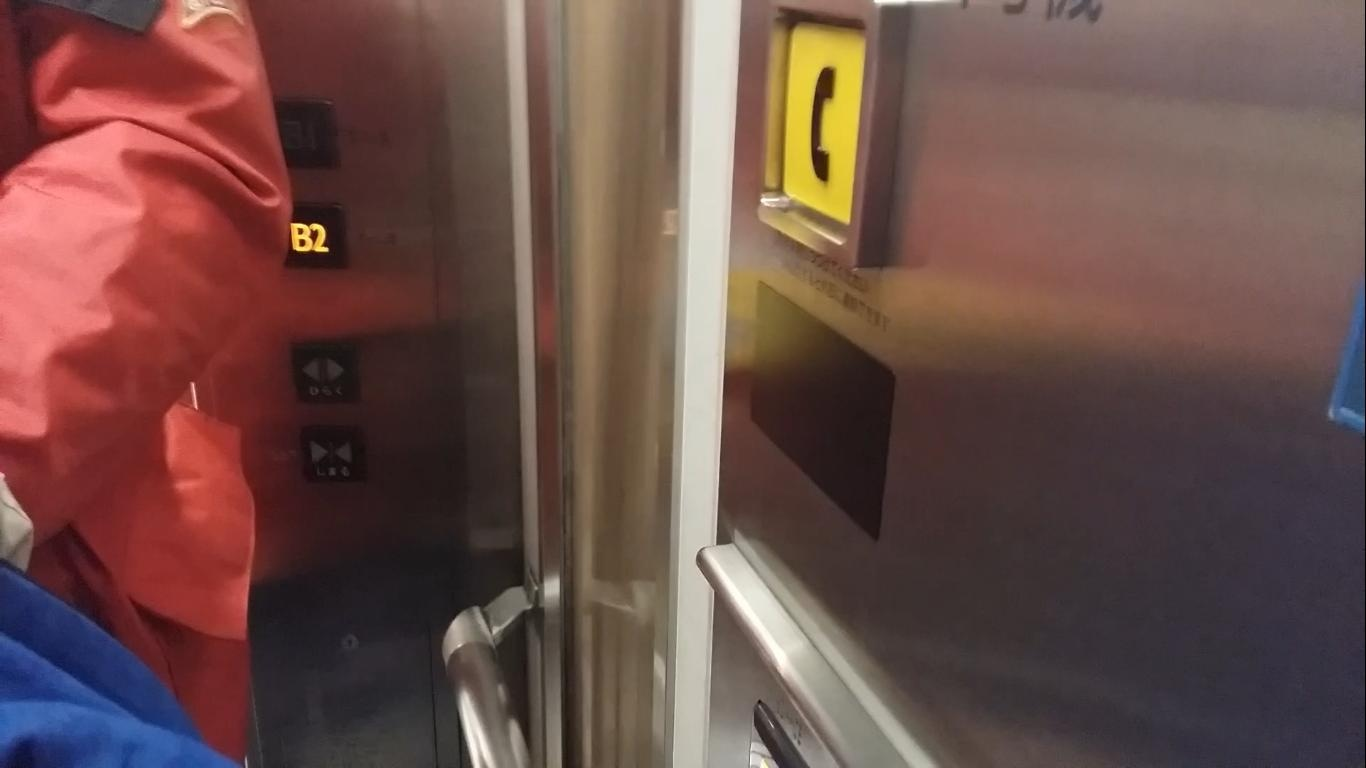B2: (270, 198, 353, 277)
blur: (267, 95, 342, 171)
call: (756, 1, 896, 270)
close: (295, 418, 369, 488)
open: (286, 340, 366, 408)
